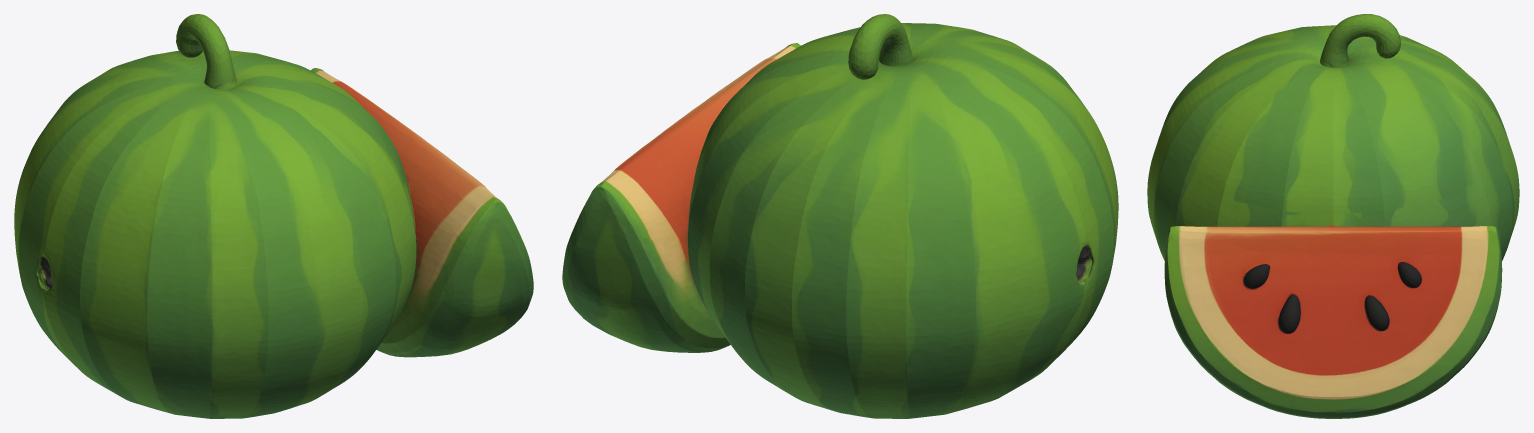
File: meal_5.glb
3 views of the same model, side by side, from view 1: azimuth 30°, elevation 25°; view 2: azimuth 150°, elevation 25°; view 3: azimuth 270°, elevation 25° (orthographic). The views are drawn at different scales.
Parts seen in each view (by area): view 1: tripo_node_9836606a-2bc0-40b8-8f93-324c813a9ce5; view 2: tripo_node_9836606a-2bc0-40b8-8f93-324c813a9ce5; view 3: tripo_node_9836606a-2bc0-40b8-8f93-324c813a9ce5.
Part boxes in pixels (x1,y1,x2,y2): tripo_node_9836606a-2bc0-40b8-8f93-324c813a9ce5: (14, 14, 533, 418); tripo_node_9836606a-2bc0-40b8-8f93-324c813a9ce5: (562, 14, 1118, 418); tripo_node_9836606a-2bc0-40b8-8f93-324c813a9ce5: (1147, 14, 1519, 418).
Bounding box in the file's own units: 1 × 0.7769 × 0.8408.
1 material, 1 textured.
